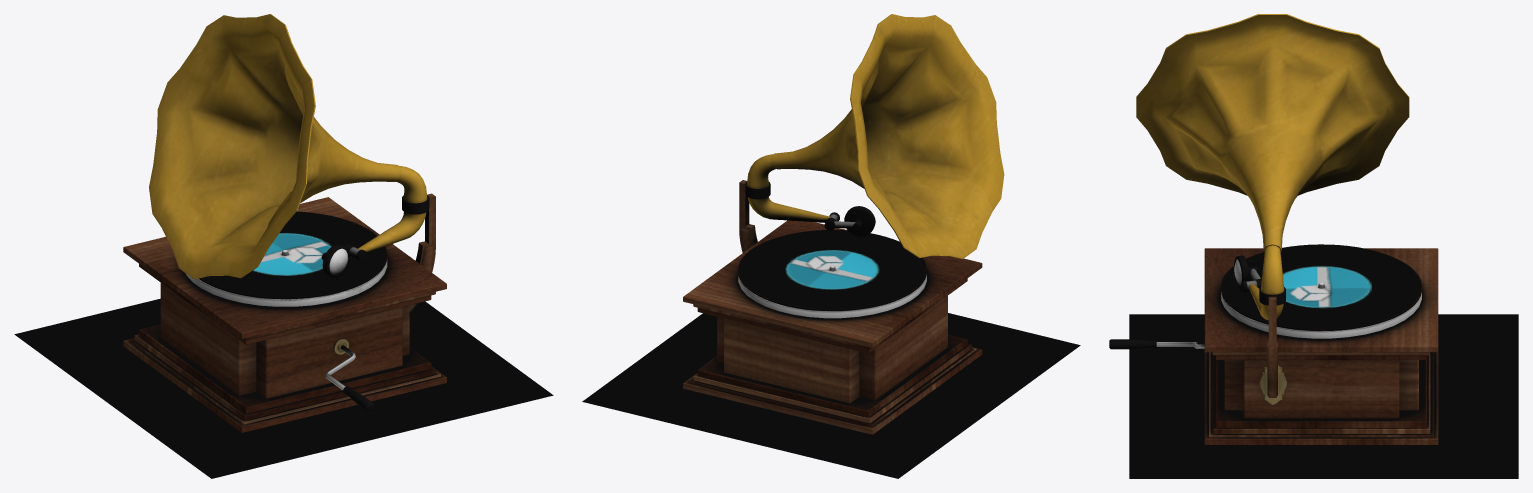
File: phonograph.gltf
3 renders of one model, left to right at view 1: azimuth 30°, elevation 25°; view 2: azimuth 150°, elevation 25°; view 3: azimuth 270°, elevation 25°, orthographic. The views are drawn at different scales.
Parts seen in each view (by area): view 1: phonograph, table; view 2: phonograph, table; view 3: phonograph, table.
Part boxes in pixels (left/top/right/bottom): phonograph: left=123, top=14, right=446, bottom=432; table: left=14, top=298, right=553, bottom=478; phonograph: left=683, top=14, right=1004, bottom=434; table: left=582, top=313, right=1080, bottom=478; phonograph: left=1109, top=14, right=1438, bottom=444; table: left=1129, top=314, right=1518, bottom=478.
Size of the model in its own units: 0.9091 by 0.9458 by 0.9553.
2 materials, 1 textured.
